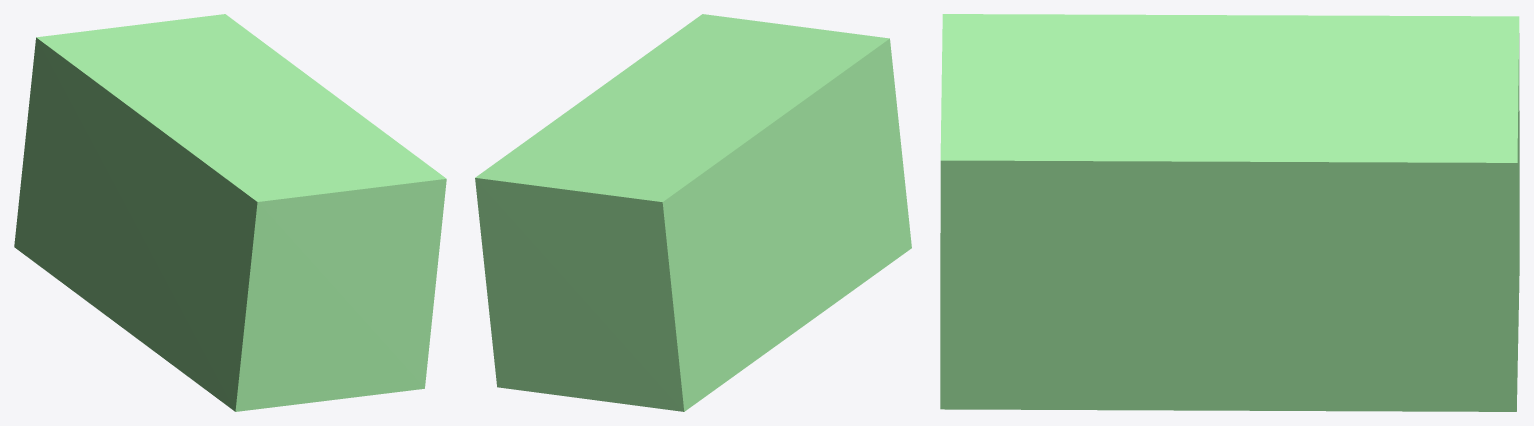
The model's file is UMIRobot_UMIRobot_link_3_convex_coll_28.dae.
3 views of the same model, side by side, from view 1: azimuth 30°, elevation 25°; view 2: azimuth 150°, elevation 25°; view 3: azimuth 270°, elevation 25° (orthographic). The views are drawn at different scales.
Visible parts, largest first — view 1: node; view 2: node; view 3: node.
Part boxes in pixels (bbox=[...]): node: bbox=[14, 14, 446, 411]; node: bbox=[475, 14, 911, 411]; node: bbox=[940, 14, 1519, 411].
Bounding box in the file's own units: 0.0223 × 0.0226 × 0.0407.
